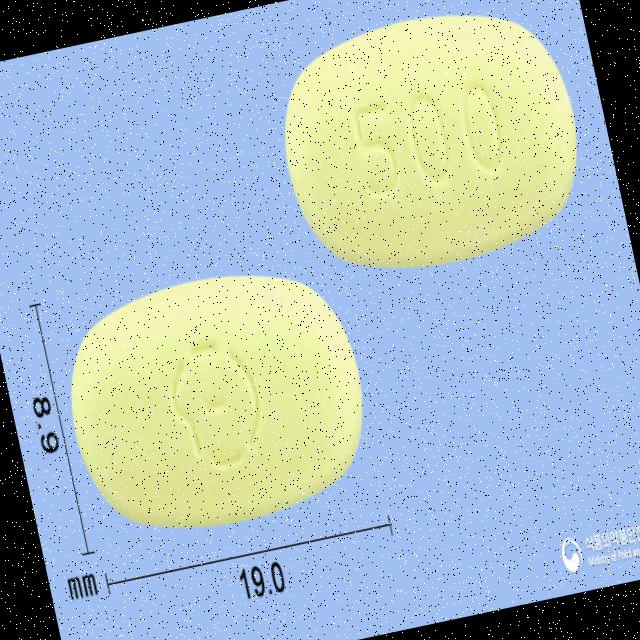Clarione: (42, 240, 388, 559), (257, 0, 606, 304)
